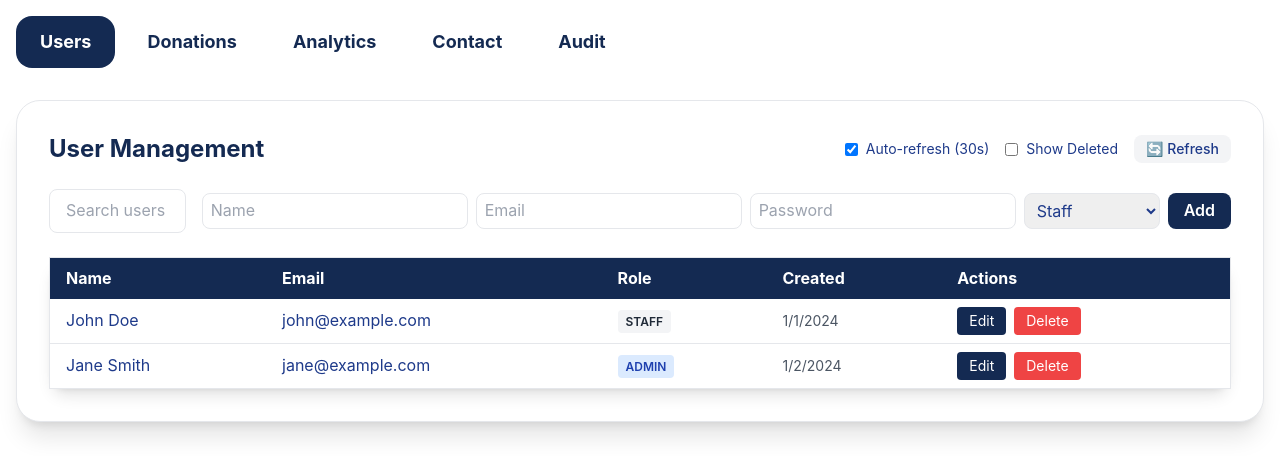
Test: Admin Panel Integration Tests › User Management Tab › should search/filter users
Expected: the text "John Doe" is shown, [50,299,266,344]
Expected: the text "Jane Smith" is shown, [50,344,266,389]
Search for John
Type "John" into the field with placeholder "Search users by name or email..." at (117, 211), box [49,189,186,233]
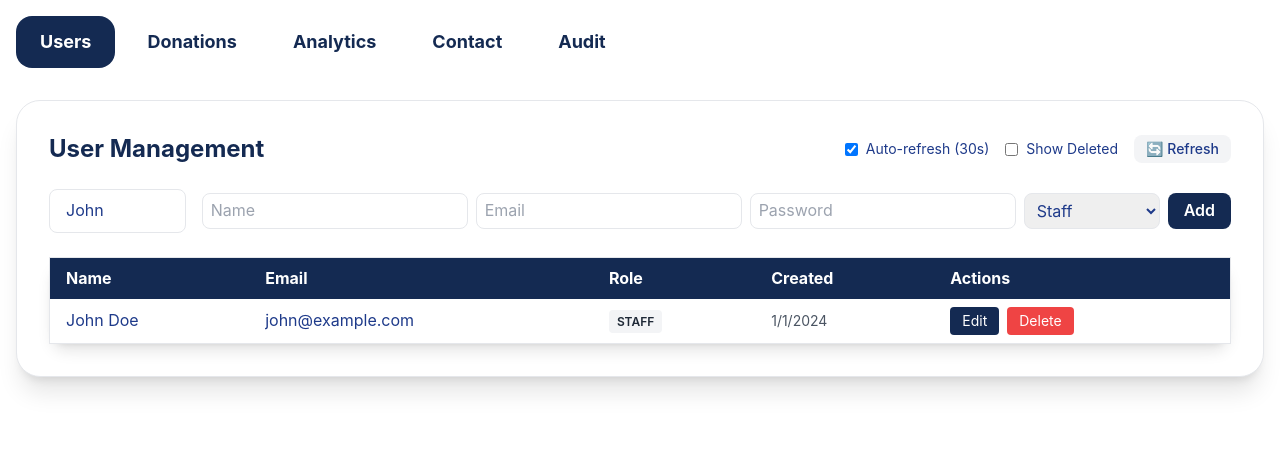
Expected: the text "John Doe" is shown, [50,299,249,344]
Expected: the text "Jane Smith" is gone
